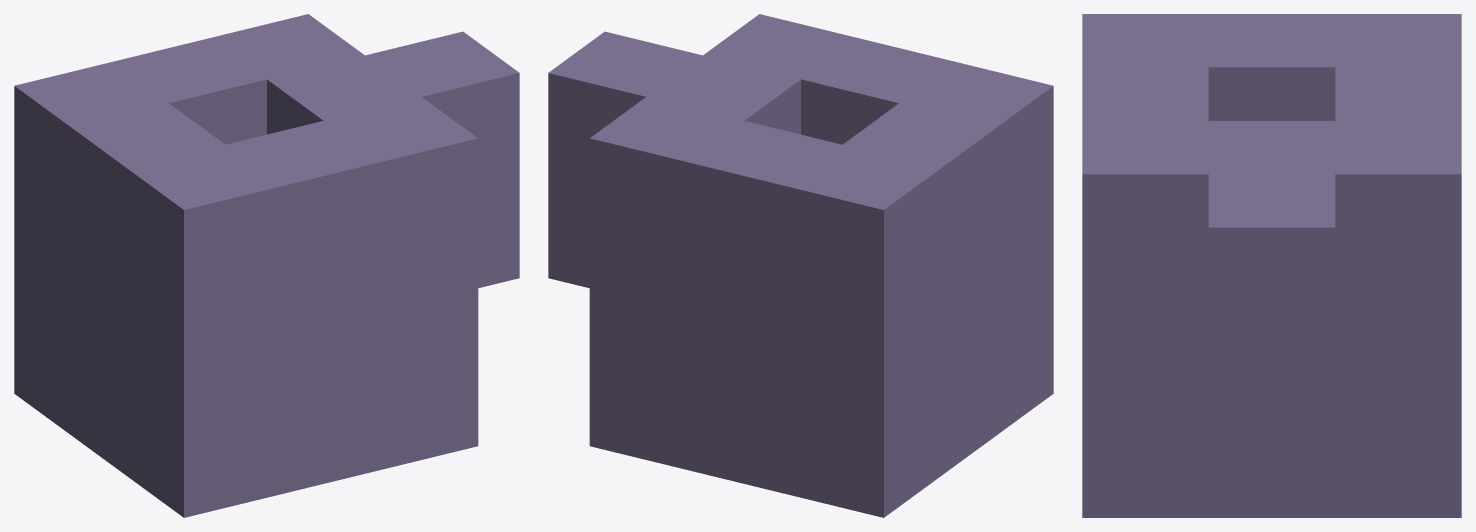
The model's file is mug_d.obj.
3 views of the same model, side by side, from view 1: azimuth 30°, elevation 25°; view 2: azimuth 150°, elevation 25°; view 3: azimuth 270°, elevation 25° (orthographic). The views are drawn at different scales.
Bounding box in the file's own units: 0.4 × 0.3 × 0.3.
Materials: 1 (1 with a texture image).
